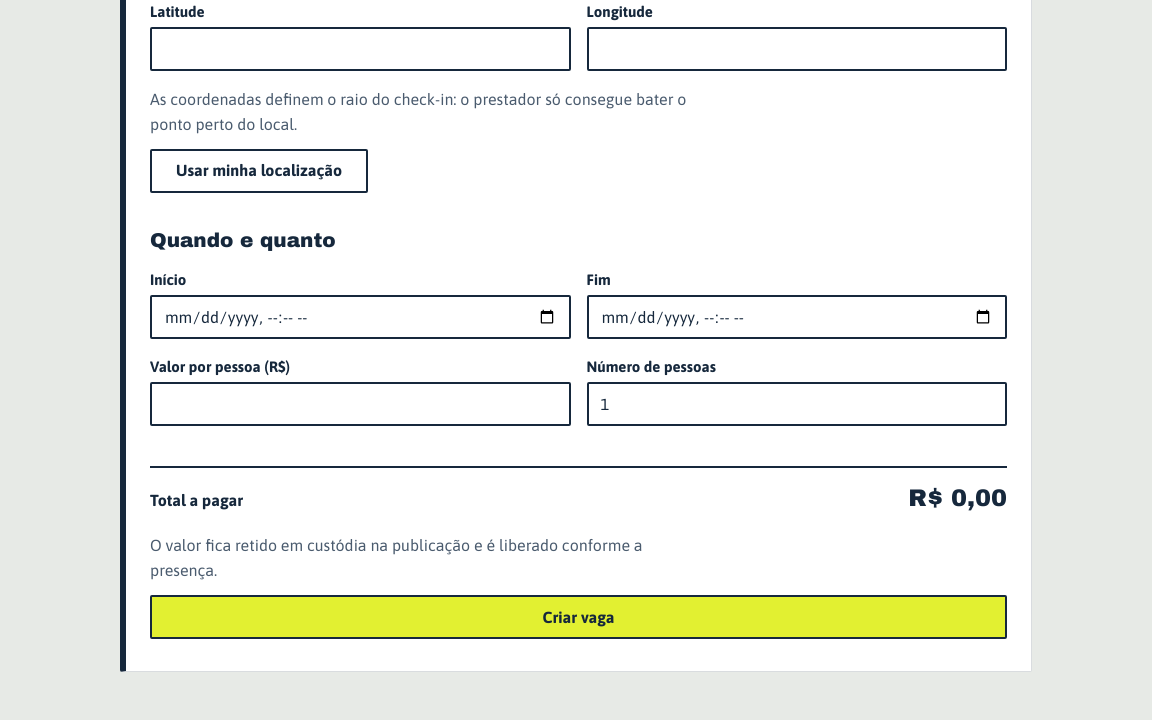
Test: Vagas da empresa › mostra o erro do servidor quando a vaga é recusada
The image size is (1152, 720).
(page scrolled)
Click the button "Criar vaga" at (578, 617), box [150,595,1007,639]
(page scrolled)
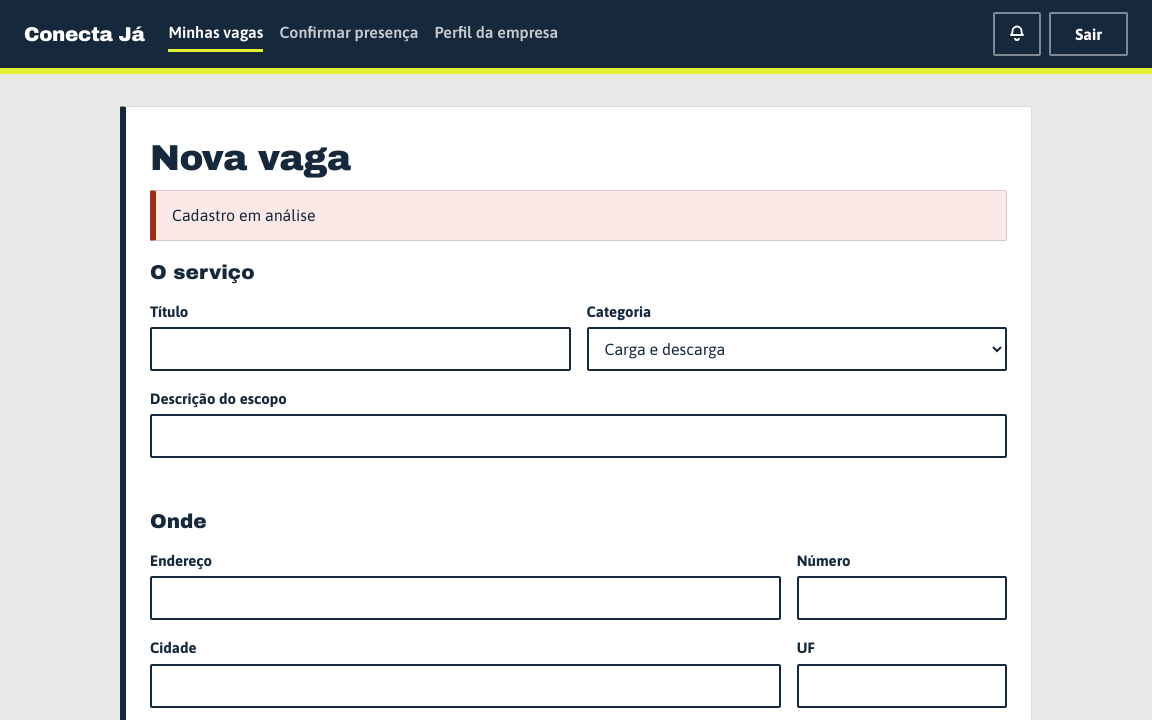
Result: the message reads "Cadastro em análise" at [172,206,316,224]
